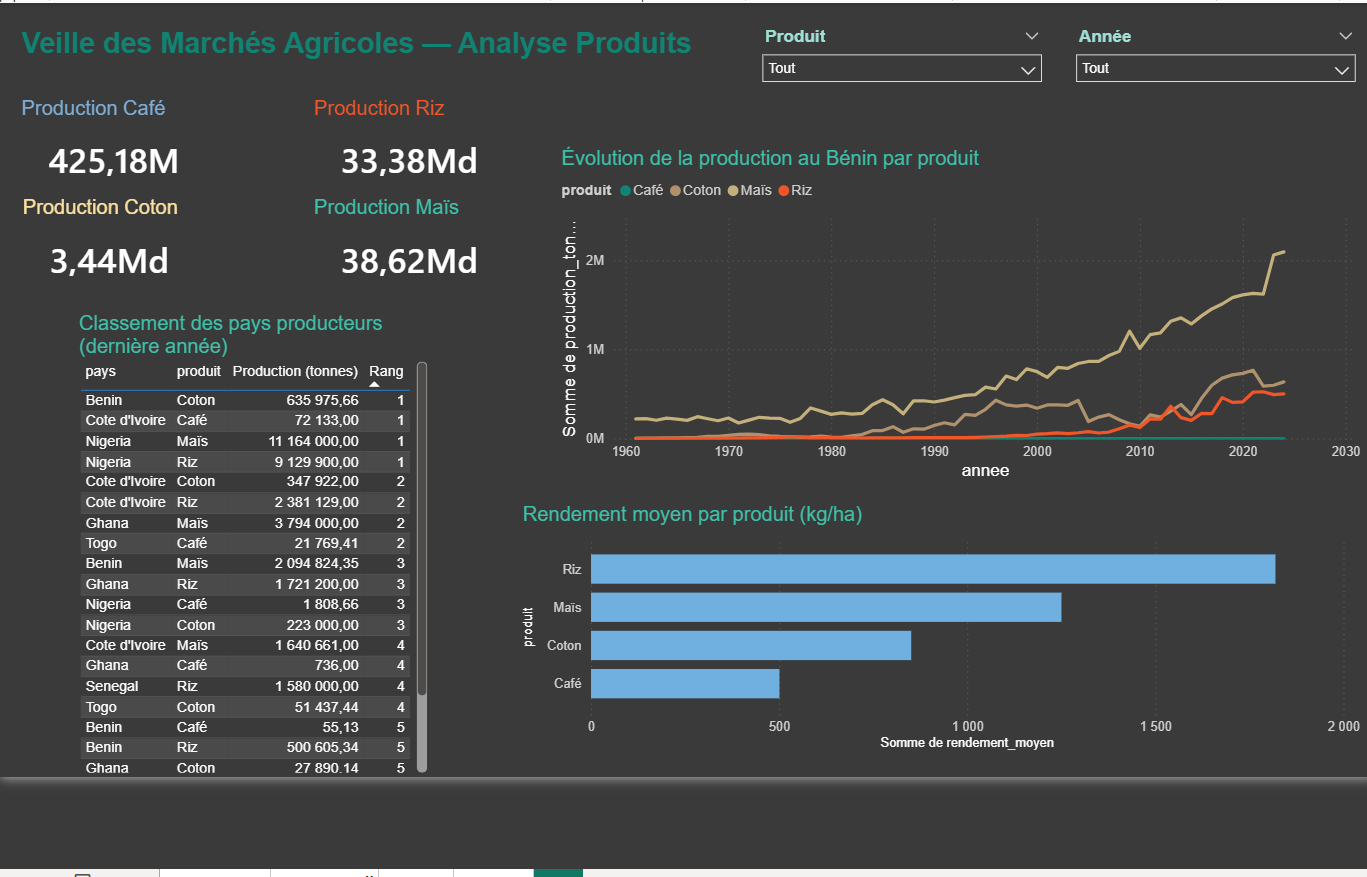

The page's visual inventory and layout, read from the dashboard file:
{"tool":"powerbi","page":{"name":"Produits","canvas":[1280,720],"ordinal":1},"visuals":[{"type":"textbox","box":[15.1,17.4,664,54.7],"z":0},{"type":"slicer","fields":{"Values":["v_production_annuelle.produit"]},"box":[698.8,17.4,280.2,69.8],"z":1000},{"type":"slicer","fields":{"Values":["v_production_annuelle.annee"]},"box":[990.7,17.4,280.2,69.8],"z":2000},{"type":"clusteredBarChart","title":"Rendement moyen par produit (kg/ha)","fields":{"Category":["v_rendement_moyen_par_produit.produit"],"Y":["Sum(v_rendement_moyen_par_produit.rendement_moyen)"]},"box":[481.4,465.1,789.5,234.9],"z":3000},{"type":"lineChart","title":"Évolution de la production au Bénin par produit","fields":{"Category":["v_evolution_production.annee"],"Y":["Sum(v_evolution_production.production_tonnes)"],"Series":["v_evolution_production.produit"]},"box":[517.4,133.7,753.5,314],"z":4000},{"type":"tableEx","title":"Classement des pays producteurs (dernière année)","fields":{"Values":["v_top_pays_producteurs.pays","v_top_pays_producteurs.produit","v_top_pays_producteurs.production_tonnes","v_top_pays_producteurs.rang"]},"box":[68.6,286.8,333.4,433.6],"z":5000},{"type":"cardVisual","title":"Production Café","fields":{"Data":["v_production_annuelle.Production Café"]},"box":[15.1,87.2,212.8,91.9],"z":6000},{"type":"cardVisual","title":"Production Coton","fields":{"Data":["v_production_annuelle.Production Coton"]},"box":[16.3,179.1,211.6,93],"z":7000},{"type":"cardVisual","title":"Production Maïs","fields":{"Data":["v_production_annuelle.Production Maïs"]},"box":[287.2,179.1,230.2,93],"z":8000},{"type":"cardVisual","title":"Production Riz","fields":{"Data":["v_production_annuelle.Production Riz"]},"box":[287.2,87.2,230.2,91.9],"z":9000}]}

Visuals, with their boxes on the page's 1280x720 design canvas (x1, y1, x2, y2). These are canvas units, not pixel positions in the 1367x877 screenshot, which may show the page scaled, cropped or inside an application window:
textbox: x1=15 y1=17 x2=679 y2=72
slicer - v_production_annuelle.produit: x1=699 y1=17 x2=979 y2=87
slicer - v_production_annuelle.annee: x1=991 y1=17 x2=1271 y2=87
"Rendement moyen par produit (kg/ha)" clusteredBarChart: x1=481 y1=465 x2=1271 y2=700
"Évolution de la production au Bénin par produit" lineChart: x1=517 y1=134 x2=1271 y2=448
"Classement des pays producteurs (dernière année)" tableEx: x1=69 y1=287 x2=402 y2=720
"Production Café" cardVisual: x1=15 y1=87 x2=228 y2=179
"Production Coton" cardVisual: x1=16 y1=179 x2=228 y2=272
"Production Maïs" cardVisual: x1=287 y1=179 x2=517 y2=272
"Production Riz" cardVisual: x1=287 y1=87 x2=517 y2=179
